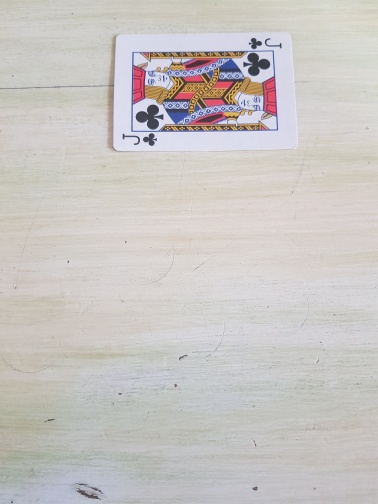jack: (110, 29, 299, 153)
